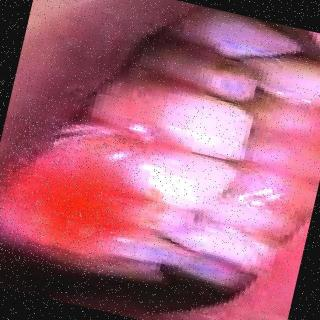Gum Swelling: (29, 146, 137, 269)
